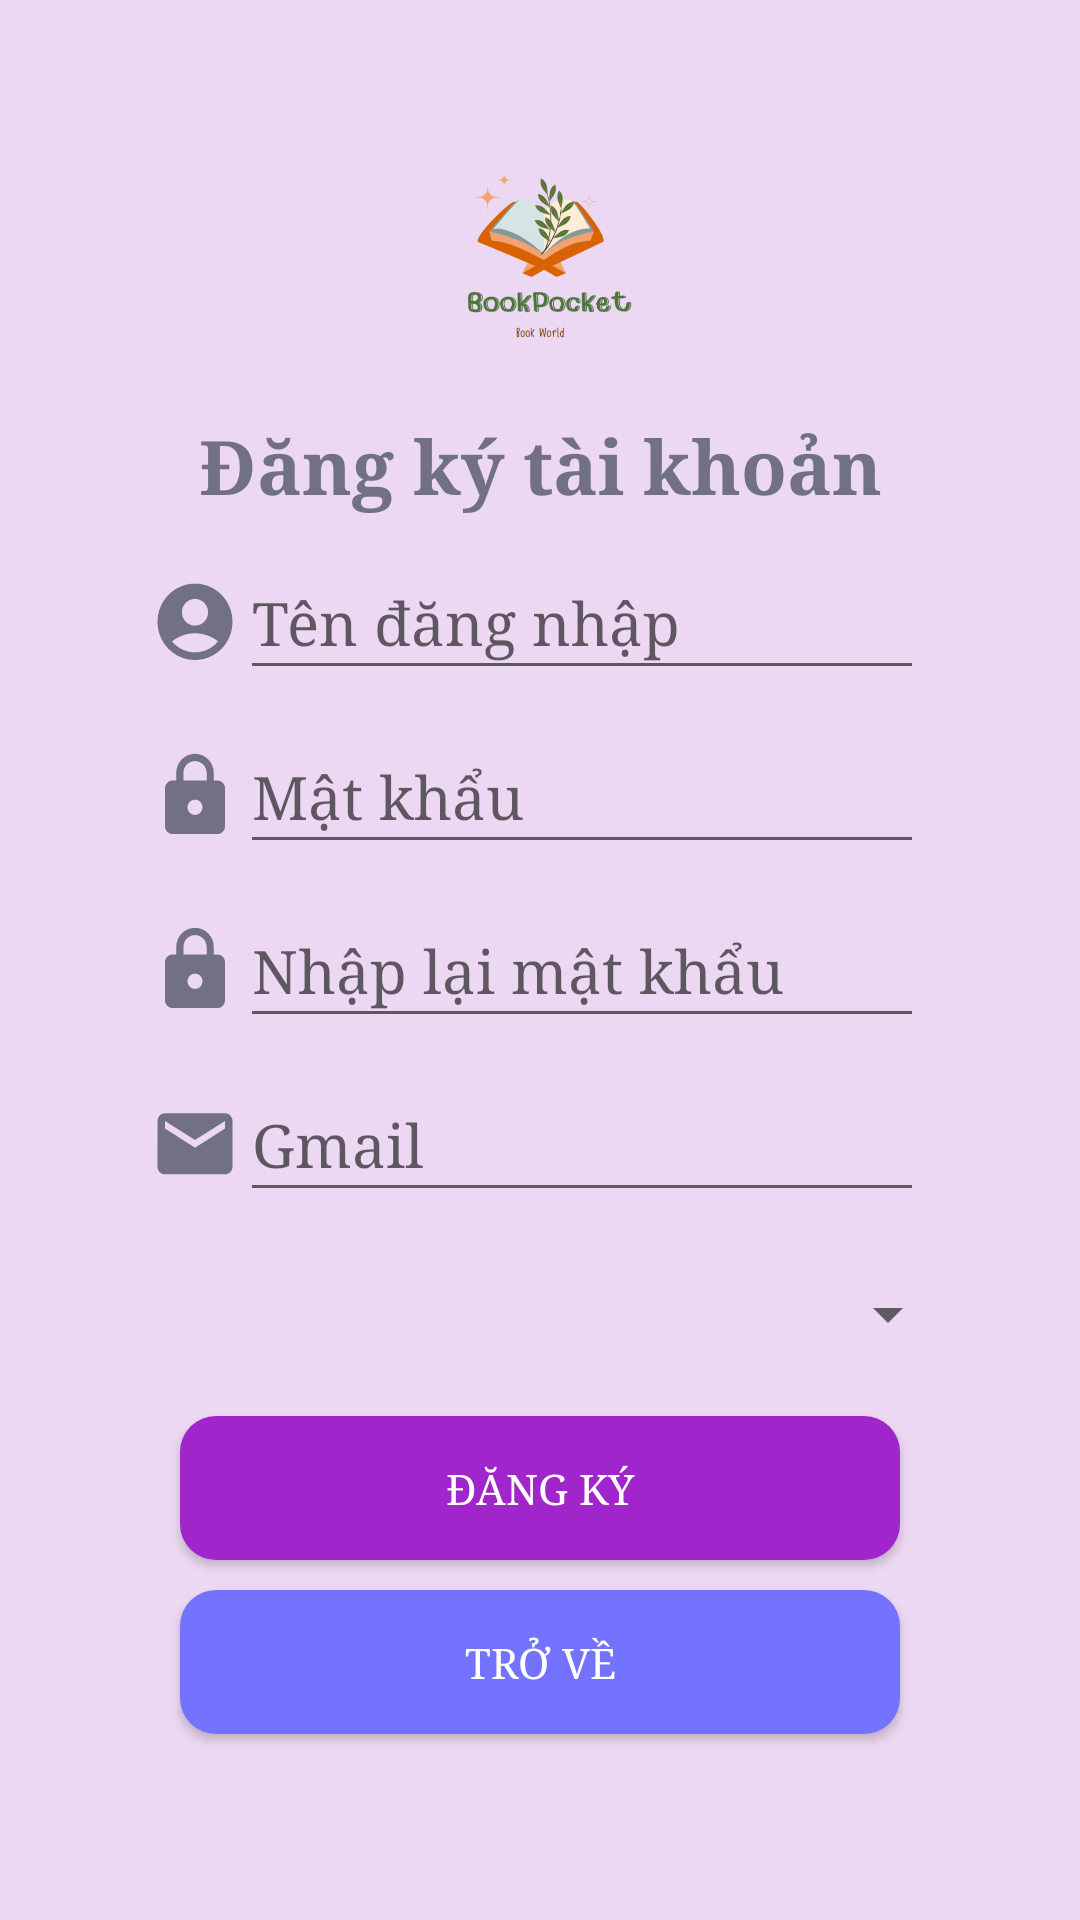

Where to tap for icons on this 1080 × 1920 app screen, as (x,y):
account circle: (195,621)
lock register view: (195,794), (195,968)
markunread register view: (195,1144)
